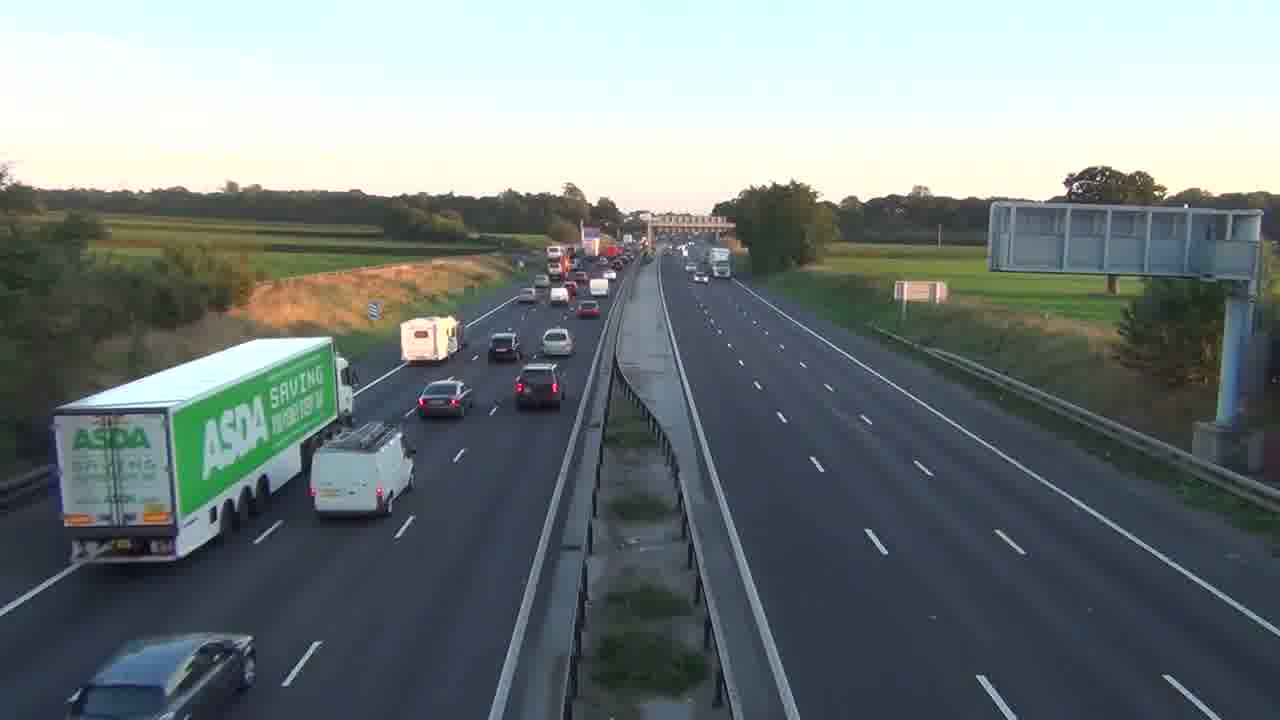car: (64, 631, 258, 718), (512, 363, 564, 410), (415, 378, 472, 419), (541, 327, 576, 358), (488, 331, 519, 364)
truck: (51, 335, 350, 563), (308, 419, 416, 522), (400, 315, 458, 364)
